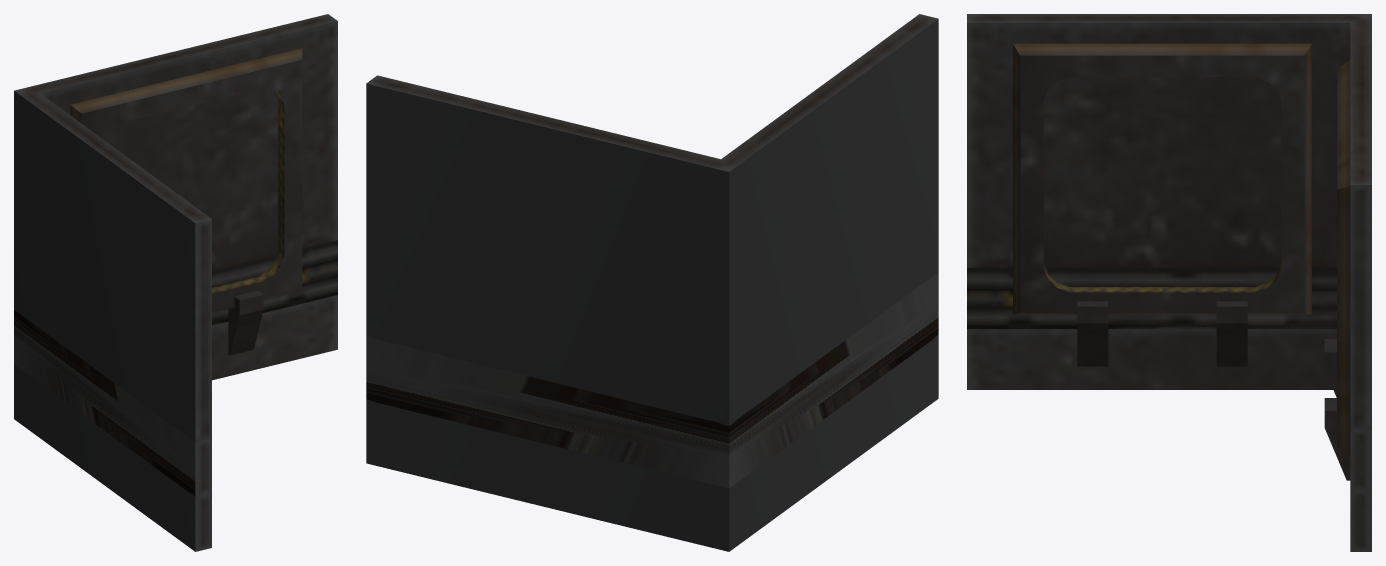
The model's file is Wall_top_corner_in_2.FBX.
3 renders of one model, left to right at view 1: azimuth 30°, elevation 25°; view 2: azimuth 150°, elevation 25°; view 3: azimuth 270°, elevation 25°, orthographic. The views are drawn at different scales.
Parts seen in each view (by area): view 1: Wall_top_corner_in_2; view 2: Wall_top_corner_in_2; view 3: Wall_top_corner_in_2.
Boxes of the visible parts, box(x1,y1,x2,y2) form: Wall_top_corner_in_2: box(14, 14, 337, 551); Wall_top_corner_in_2: box(366, 14, 938, 551); Wall_top_corner_in_2: box(967, 14, 1371, 551).
Size of the model in its own units: 300 by 300 by 300.
